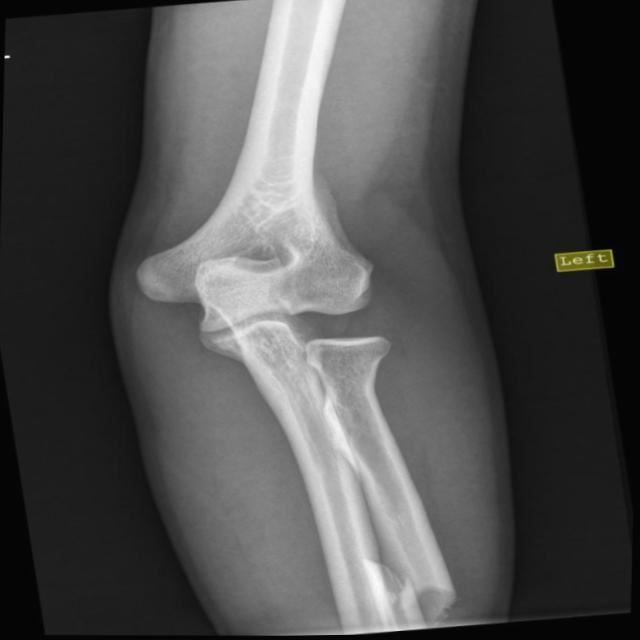Spiral: (332, 543, 468, 632)
